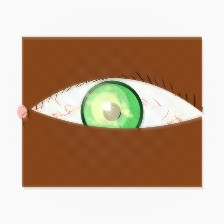corneal_ulcer: (80, 87, 132, 130)
